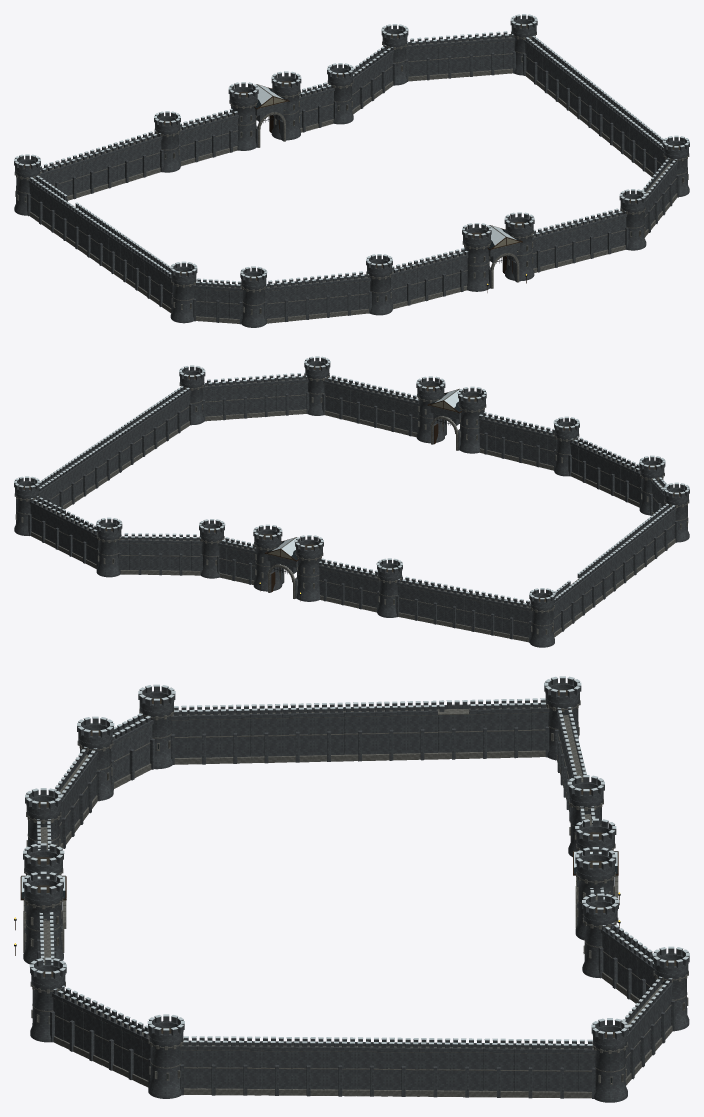
File: inner_walls.glb
The picture shows the model from 3 angles, top to bottom: view 1: azimuth 30°, elevation 25°; view 2: azimuth 150°, elevation 25°; view 3: azimuth 270°, elevation 25°; orthographic projection. The views are drawn at different scales.
Visible parts, largest first — view 1: ENV_R5_Stone, ENV_R5_Trim, ENV_R5_Snow; view 2: ENV_R5_Stone, ENV_R5_Trim, ENV_R5_Snow; view 3: ENV_R5_Stone, ENV_R5_Trim, ENV_R5_Snow, ENV_R5_Earth.
Part boxes in pixels (box(x1,y1,x2,y2)): ENV_R5_Stone: box(14, 15, 689, 327); ENV_R5_Trim: box(14, 32, 689, 323); ENV_R5_Snow: box(14, 14, 689, 285); ENV_R5_Stone: box(14, 358, 689, 647); ENV_R5_Trim: box(14, 373, 689, 642); ENV_R5_Snow: box(14, 356, 689, 605); ENV_R5_Stone: box(23, 678, 689, 1102); ENV_R5_Trim: box(21, 700, 688, 1098); ENV_R5_Snow: box(21, 676, 689, 1045); ENV_R5_Earth: box(30, 689, 676, 1037).
Size of the model in its own units: 181 by 19.23 by 143.
Materials: 10 (8 with a texture image).
